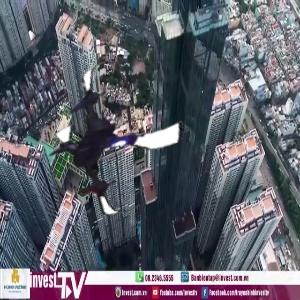drone: (37, 57, 197, 217)
